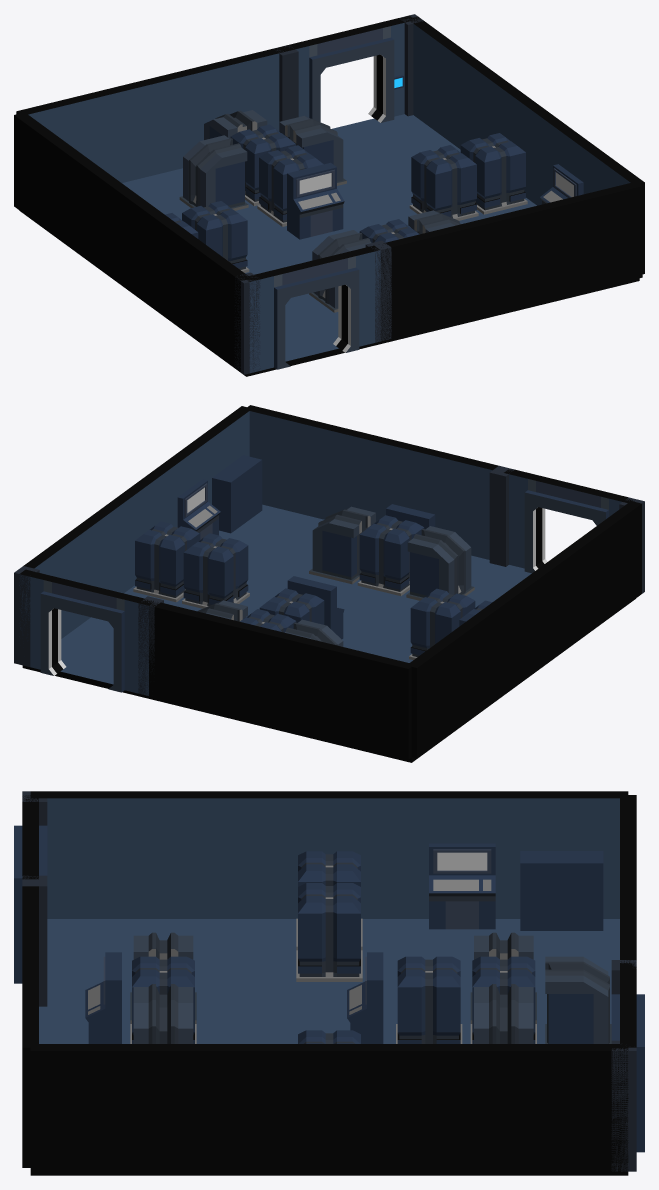
The model's file is Lab2.fbx.
The picture shows the model from 3 angles, top to bottom: view 1: azimuth 30°, elevation 25°; view 2: azimuth 150°, elevation 25°; view 3: azimuth 270°, elevation 25°; orthographic projection. The views are drawn at different scales.
Visible parts, largest first — view 1: LaboratorySquareFloor, LaboratoryWall.008, LaboratoryWall.001, Doorway.001, LaboratoryWall.004, LaboratoryWall.002, LaboratoryWall.003, LaboratoryWall, LaboratoryWall.009, LaboratoryWall.005, Doorway.003, LaboratoryWall.006 (+18 smaller); view 2: LaboratorySquareFloor, LaboratoryWall.002, LaboratoryWall.004, LaboratoryWall.008, LaboratoryWall.001, Doorway.003, LaboratoryWall.009, LaboratoryWall, LaboratoryWall.003, Doorway.001, LaboratoryWall.006, Node2.003 (+18 smaller); view 3: LaboratorySquareFloor, LaboratoryWall.007, LaboratoryWall.006, LaboratoryWall.005, LaboratoryWall, LaboratoryWall.003, LaboratoryWall.009, Cabinet.000, Node2.005, Terminal1.001, Node2.004, Node1.004 (+18 smaller).
Boxes of the visible parts, left/top/right/bottom form: LaboratorySquareFloor: left=19, top=114, right=639, bottom=376; LaboratoryWall.008: left=505, top=181, right=642, bottom=309; LaboratoryWall.001: left=380, top=213, right=511, bottom=340; Doorway.001: left=244, top=245, right=380, bottom=373; LaboratoryWall.004: left=148, top=47, right=283, bottom=175; LaboratoryWall.002: left=16, top=79, right=153, bottom=182; LaboratoryWall.003: left=89, top=167, right=175, bottom=316; LaboratoryWall: left=165, top=223, right=249, bottom=371; LaboratoryWall.009: left=14, top=113, right=99, bottom=261; LaboratoryWall.005: left=409, top=16, right=493, bottom=149; Doorway.003: left=279, top=15, right=414, bottom=122; LaboratoryWall.006: left=482, top=72, right=568, bottom=205; LaboratorySquareFloor: left=22, top=504, right=635, bottom=762; LaboratoryWall.002: left=279, top=633, right=414, bottom=759; LaboratoryWall.004: left=149, top=602, right=284, bottom=727; LaboratoryWall.008: left=244, top=405, right=379, bottom=519; LaboratoryWall.001: left=374, top=436, right=498, bottom=559; Doorway.003: left=19, top=569, right=153, bottom=695; LaboratoryWall.009: left=409, top=610, right=491, bottom=758; LaboratoryWall: left=556, top=501, right=641, bottom=648; LaboratoryWall.003: left=481, top=556, right=566, bottom=703; Doorway.001: left=504, top=468, right=634, bottom=573; LaboratoryWall.006: left=92, top=461, right=177, bottom=593; Node2.003: left=182, top=533, right=249, bottom=608; LaboratorySquareFloor: left=30, top=919, right=628, bottom=1175; LaboratoryWall.007: left=30, top=1044, right=229, bottom=1171; LaboratoryWall.006: left=230, top=1044, right=428, bottom=1171; LaboratoryWall.005: left=429, top=1044, right=628, bottom=1171; LaboratoryWall: left=30, top=791, right=229, bottom=918; LaboratoryWall.003: left=230, top=791, right=428, bottom=918; LaboratoryWall.009: left=429, top=791, right=628, bottom=918; Cabinet.000: left=520, top=851, right=603, bottom=930; Node2.005: left=296, top=883, right=362, bottom=981; Terminal1.001: left=429, top=843, right=495, bottom=929; Node2.004: left=396, top=956, right=462, bottom=1043; Node1.004: left=545, top=956, right=611, bottom=1043.
Bounding box in the file's own units: 1850 × 425 × 1900.
